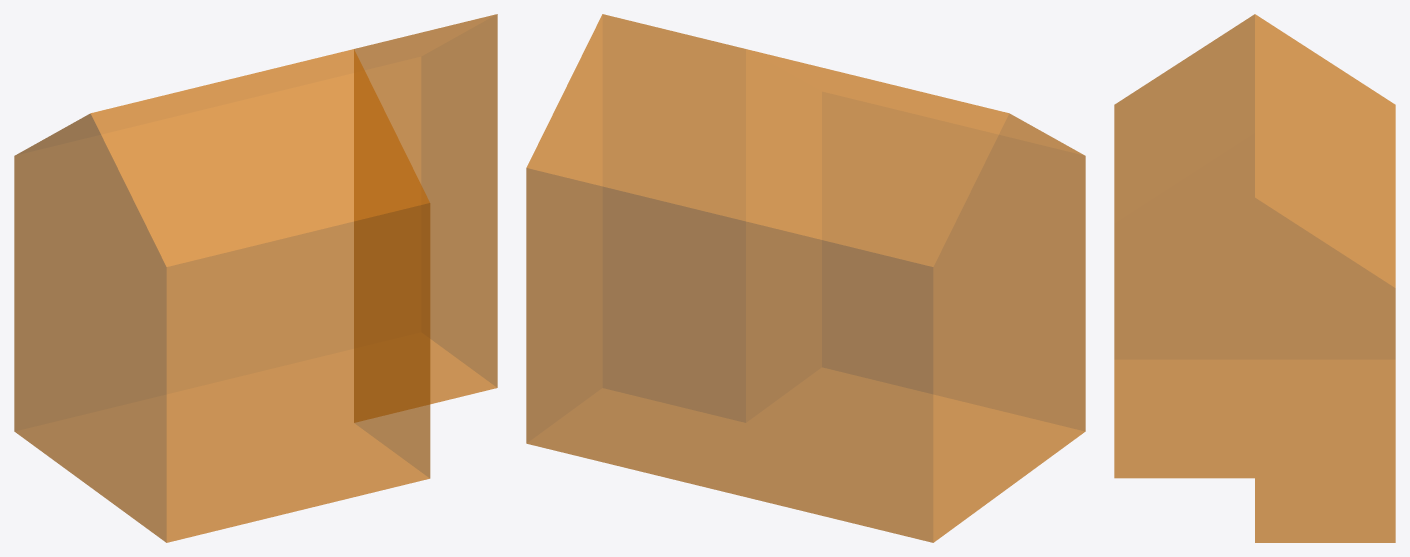
File: chata-LOWPOLLY.glb
The picture shows the model from 3 angles, left to right: view 1: azimuth 30°, elevation 25°; view 2: azimuth 150°, elevation 25°; view 3: azimuth 270°, elevation 25°; orthographic projection. The views are drawn at different scales.
Parts seen in each view (by area): view 1: Cube; view 2: Cube; view 3: Cube.
Part boxes in pixels (x1,y1,x2,y2): Cube: [14, 14, 497, 542]; Cube: [526, 14, 1085, 542]; Cube: [1114, 14, 1395, 542].
Size of the model in its own units: 3.09 by 2.71 by 2.
